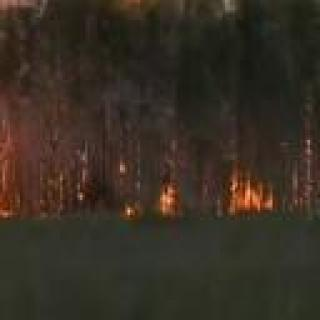fire: (228, 168, 278, 218), (156, 170, 184, 215), (0, 89, 9, 211)
